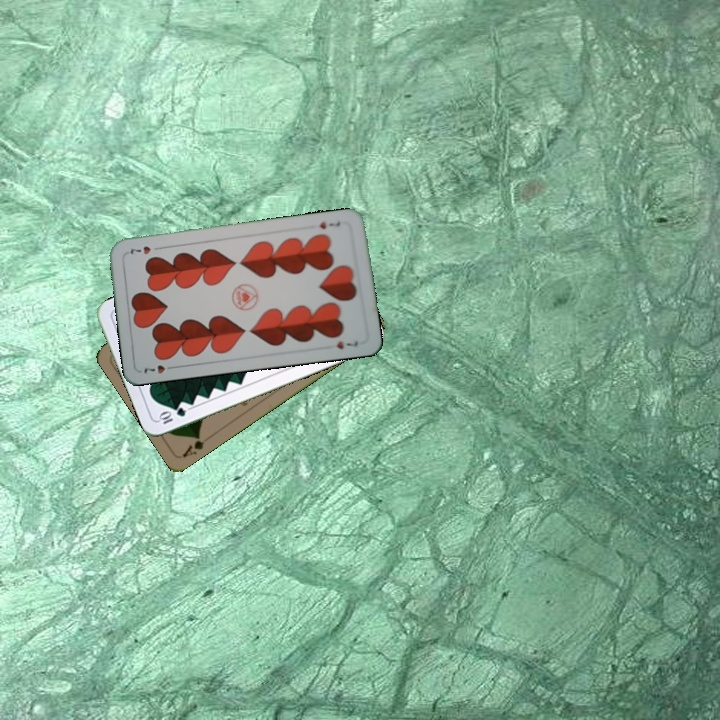G10: (155, 403, 188, 427)
GA: (179, 431, 207, 460)
H7: (139, 361, 179, 376), (316, 217, 343, 232)
